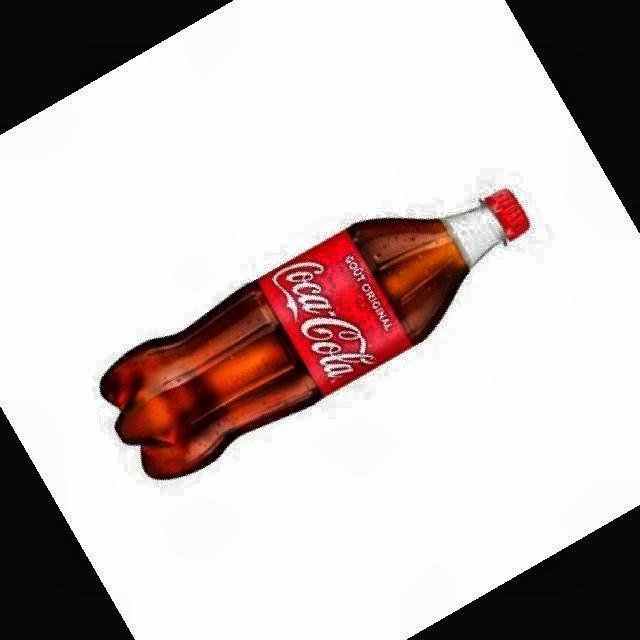plastic: (101, 190, 529, 478)
